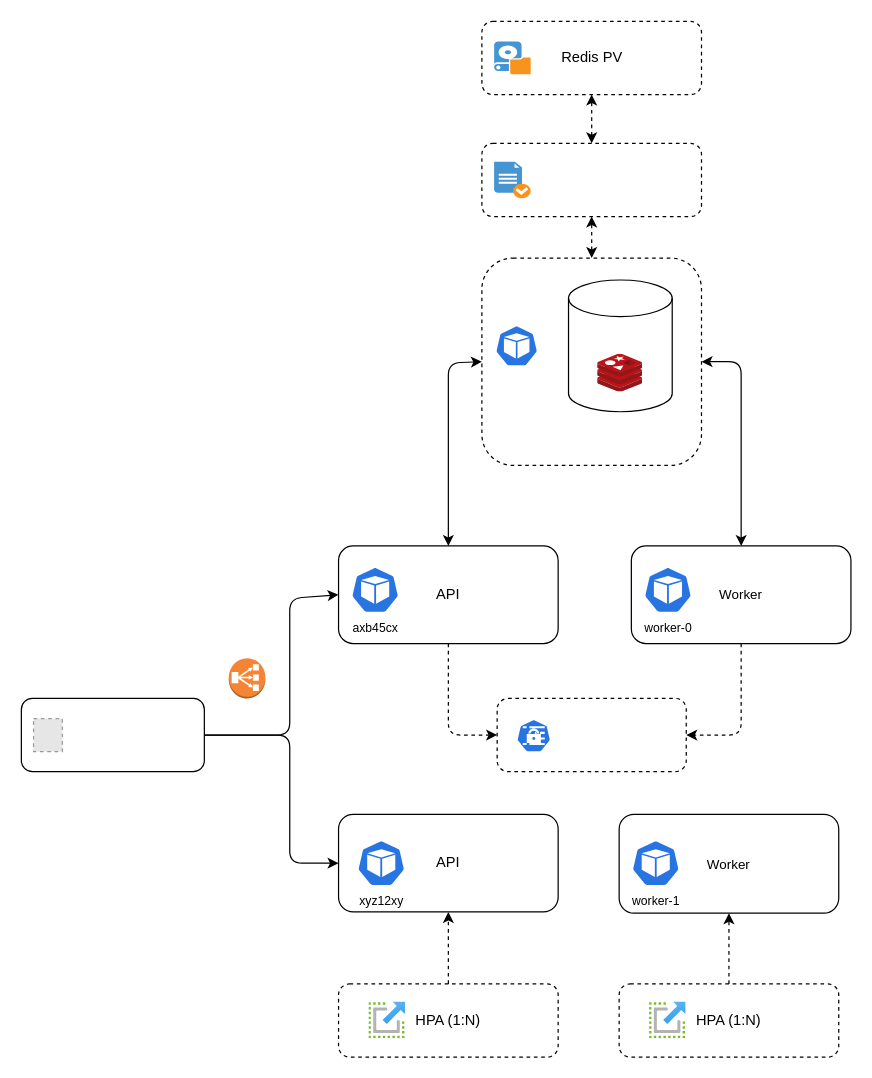
Some shapes in this 872 by 1078 pixel diagram are drawn without their labels. Grey dashed boxes stand in for pictures. Each missing label, with the box of its shape:
Cache / Broker: (567, 279, 672, 412)
htz33es: (494, 324, 538, 367)
Ingress: (20, 697, 204, 772)
LB: (228, 657, 265, 698)
Redis PVC: (481, 142, 702, 217)
secrets: (496, 697, 686, 772)
